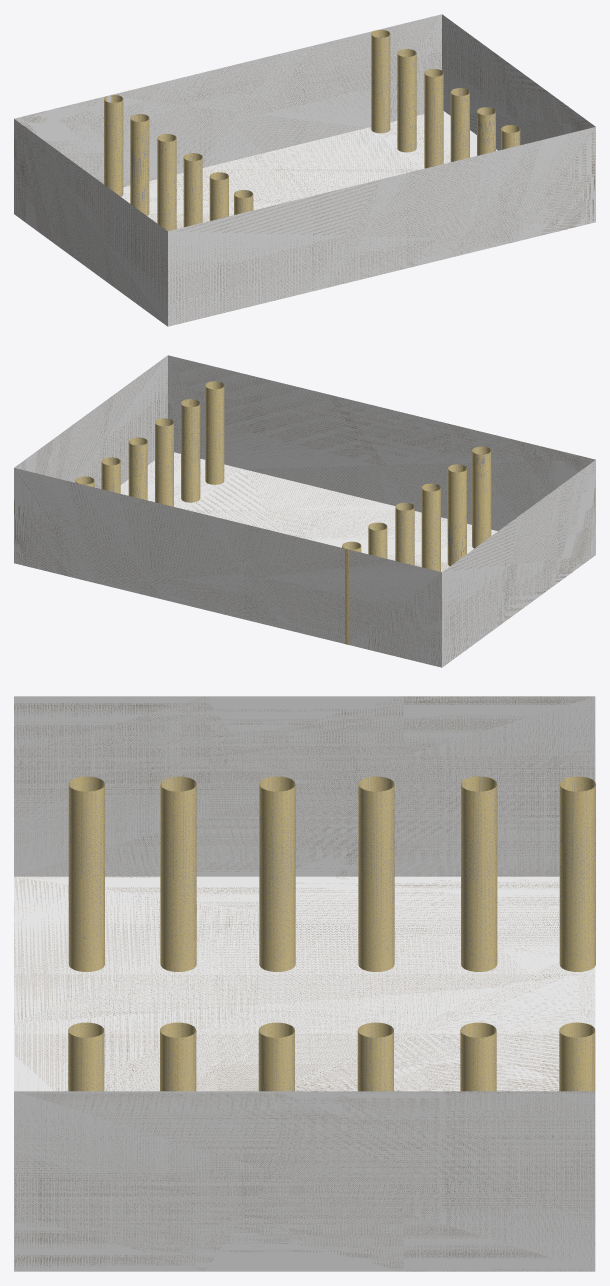
Rendered from COM028.obj.
The picture shows the model from 3 angles, top to bottom: view 1: azimuth 30°, elevation 25°; view 2: azimuth 150°, elevation 25°; view 3: azimuth 270°, elevation 25°; orthographic projection. The views are drawn at different scales.
Parts seen in each view (by area): view 1: Mesh1 Group1 Model, Mesh3 Group1 Model, Mesh2 Group1 Model, Mesh4 Group1 Model, Mesh10 Group1 Model, Mesh12 Group1 Model, Mesh9 Group1 Model, Mesh5 Group1 Model, Mesh11 Group1 Model, Mesh6 Group1 Model, Mesh8 Group1 Model, Mesh7 Group1 Model; view 2: Mesh1 Group1 Model, Mesh7 Group1 Model, Mesh6 Group1 Model, Mesh11 Group1 Model, Mesh8 Group1 Model, Mesh9 Group1 Model, Mesh5 Group1 Model, Mesh4 Group1 Model, Mesh12 Group1 Model, Mesh3 Group1 Model, Mesh10 Group1 Model; view 3: Mesh1 Group1 Model, Mesh9 Group1 Model, Mesh11 Group1 Model, Mesh12 Group1 Model, Mesh8 Group1 Model, Mesh10 Group1 Model, Mesh4 Group1 Model, Mesh5 Group1 Model, Mesh6 Group1 Model, Mesh2 Group1 Model, Mesh3 Group1 Model, Mesh7 Group1 Model.
Part boxes in pixels (box(x1,y1,x2,y2)): Mesh1 Group1 Model: box(14, 14, 595, 326); Mesh3 Group1 Model: box(397, 49, 416, 152); Mesh2 Group1 Model: box(371, 30, 390, 133); Mesh4 Group1 Model: box(424, 69, 443, 168); Mesh10 Group1 Model: box(130, 114, 149, 215); Mesh12 Group1 Model: box(157, 134, 176, 231); Mesh9 Group1 Model: box(183, 153, 202, 227); Mesh5 Group1 Model: box(450, 88, 469, 161); Mesh11 Group1 Model: box(209, 172, 228, 220); Mesh6 Group1 Model: box(477, 107, 495, 155); Mesh8 Group1 Model: box(234, 190, 253, 214); Mesh7 Group1 Model: box(501, 125, 520, 149); Mesh1 Group1 Model: box(14, 355, 595, 667); Mesh7 Group1 Model: box(205, 381, 224, 484); Mesh6 Group1 Model: box(181, 399, 200, 502); Mesh11 Group1 Model: box(447, 464, 466, 566); Mesh8 Group1 Model: box(472, 446, 491, 548); Mesh9 Group1 Model: box(421, 483, 440, 571); Mesh5 Group1 Model: box(155, 418, 173, 506); Mesh4 Group1 Model: box(128, 437, 147, 500); Mesh12 Group1 Model: box(395, 502, 414, 565); Mesh3 Group1 Model: box(101, 457, 120, 493); Mesh10 Group1 Model: box(368, 522, 387, 558); Mesh1 Group1 Model: box(14, 696, 595, 1271); Mesh9 Group1 Model: box(259, 776, 295, 971); Mesh11 Group1 Model: box(160, 776, 196, 971); Mesh12 Group1 Model: box(358, 776, 394, 971); Mesh8 Group1 Model: box(68, 776, 104, 971); Mesh10 Group1 Model: box(461, 776, 497, 971); Mesh4 Group1 Model: box(357, 1022, 393, 1091); Mesh5 Group1 Model: box(258, 1022, 294, 1091); Mesh6 Group1 Model: box(160, 1022, 196, 1091); Mesh2 Group1 Model: box(559, 1022, 595, 1091); Mesh3 Group1 Model: box(460, 1022, 496, 1091); Mesh7 Group1 Model: box(68, 1022, 104, 1091).
Bounding box in the file's own units: 13.97 × 2.98 × 8.7.
4 materials, 1 textured.
